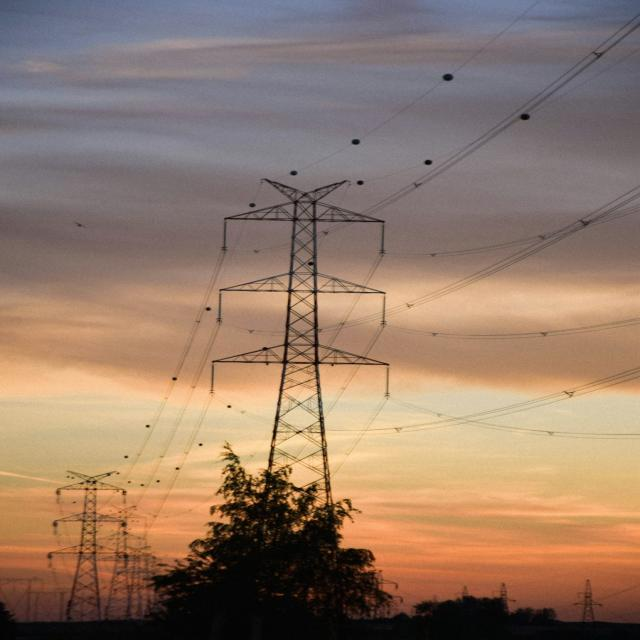transmission tower: (144, 146, 458, 467)
